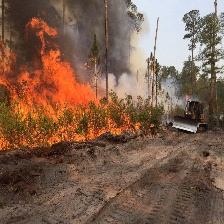fire: (3, 32, 136, 145)
smoke: (63, 4, 183, 106)
